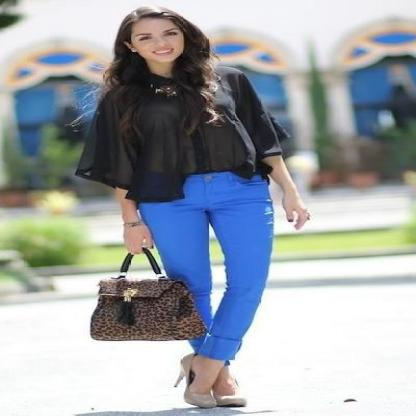bag: (90, 248, 206, 340)
pants: (135, 172, 274, 365)
shirt: (75, 58, 296, 207)
shoe: (175, 352, 236, 409)
